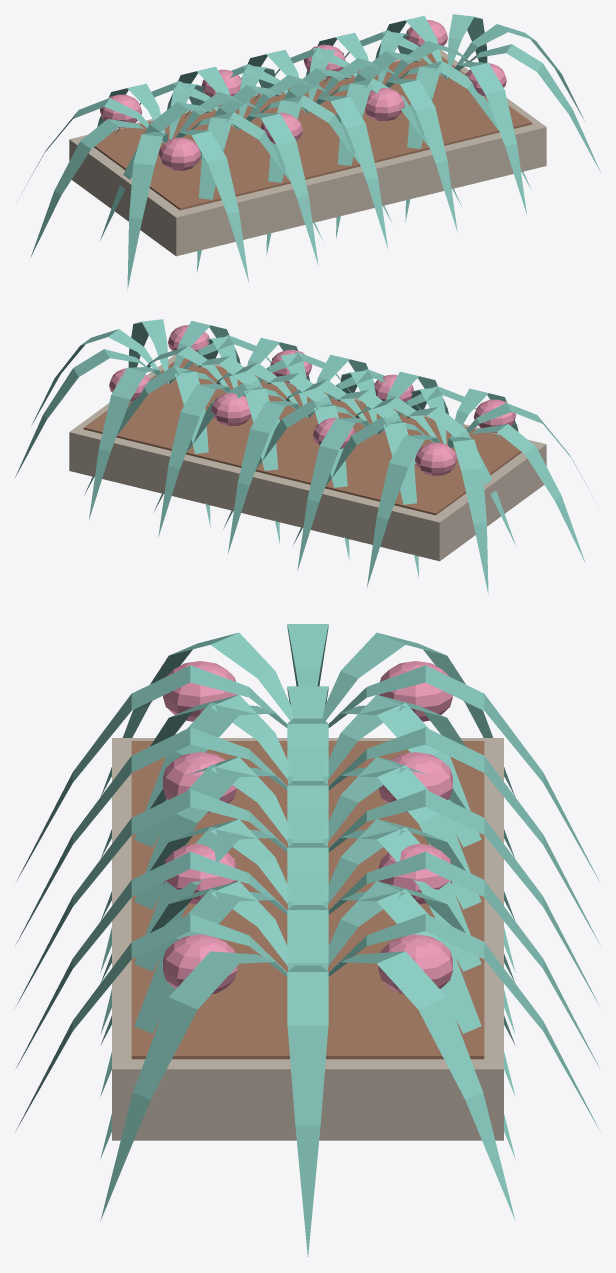
File: gardenBed.obj
The picture shows the model from 3 angles, top to bottom: view 1: azimuth 30°, elevation 25°; view 2: azimuth 150°, elevation 25°; view 3: azimuth 270°, elevation 25°; orthographic projection. The views are drawn at different scales.
Visible parts, largest first — view 1: gardenBed; view 2: gardenBed; view 3: gardenBed.
Part boxes in pixels (left/top/right/bottom): gardenBed: left=21, top=14, right=600, bottom=290; gardenBed: left=15, top=319, right=594, bottom=595; gardenBed: left=15, top=624, right=600, bottom=1256.
Size of the model in its own units: 6 by 1.2 by 3.
